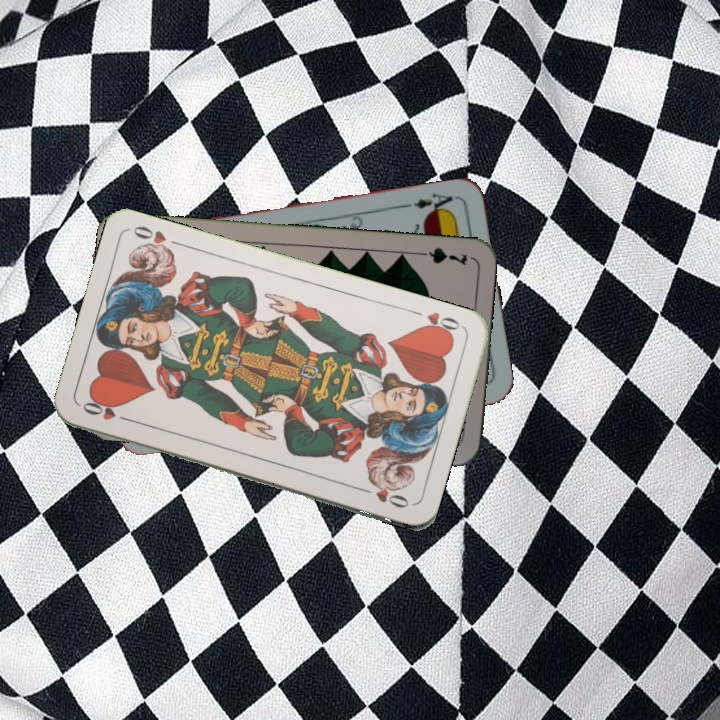EA: (401, 189, 455, 217)
G7: (411, 243, 470, 268)
HO: (407, 306, 465, 340), (78, 398, 135, 425)
